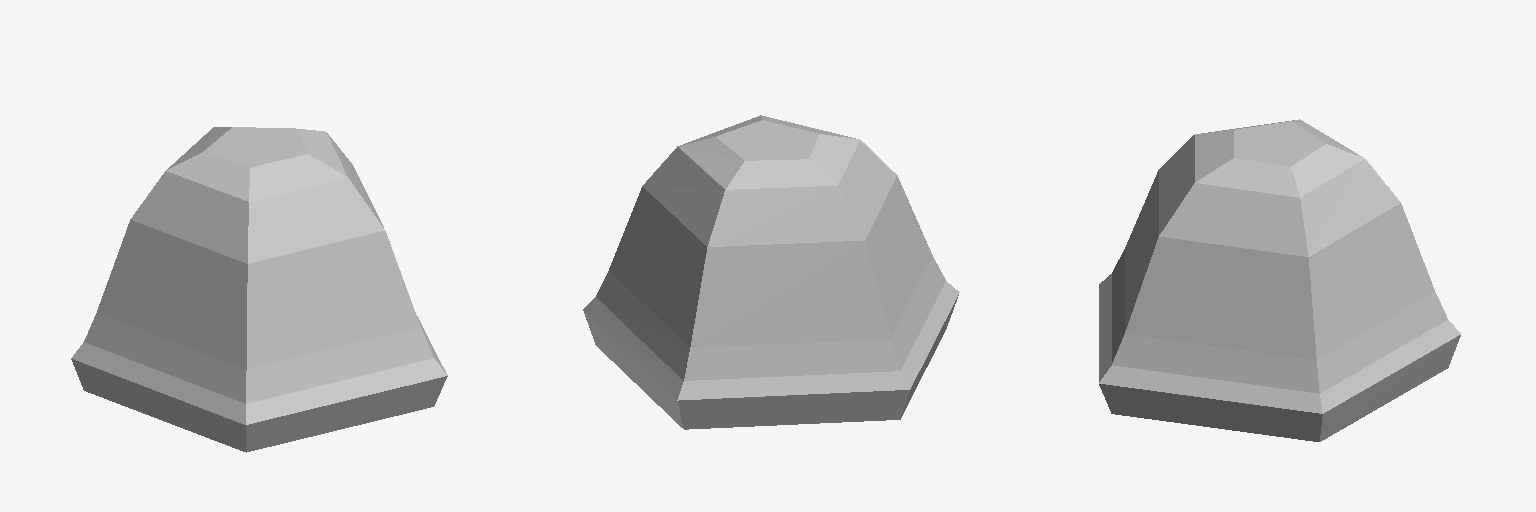
Rendered from SlimeBlob.obj.
3 renders of one model, left to right at view 1: azimuth 30°, elevation 25°; view 2: azimuth 150°, elevation 25°; view 3: azimuth 270°, elevation 25°, orthographic.
Parts seen in each view (by area): view 1: SlimeBlob; view 2: SlimeBlob; view 3: SlimeBlob.
Boxes of the visible parts, x1,y1,x2,y2 form: SlimeBlob: [71, 127, 447, 452]; SlimeBlob: [583, 115, 959, 429]; SlimeBlob: [1099, 119, 1460, 441].
Size of the model in its own units: 1.45 by 0.95 by 1.39.